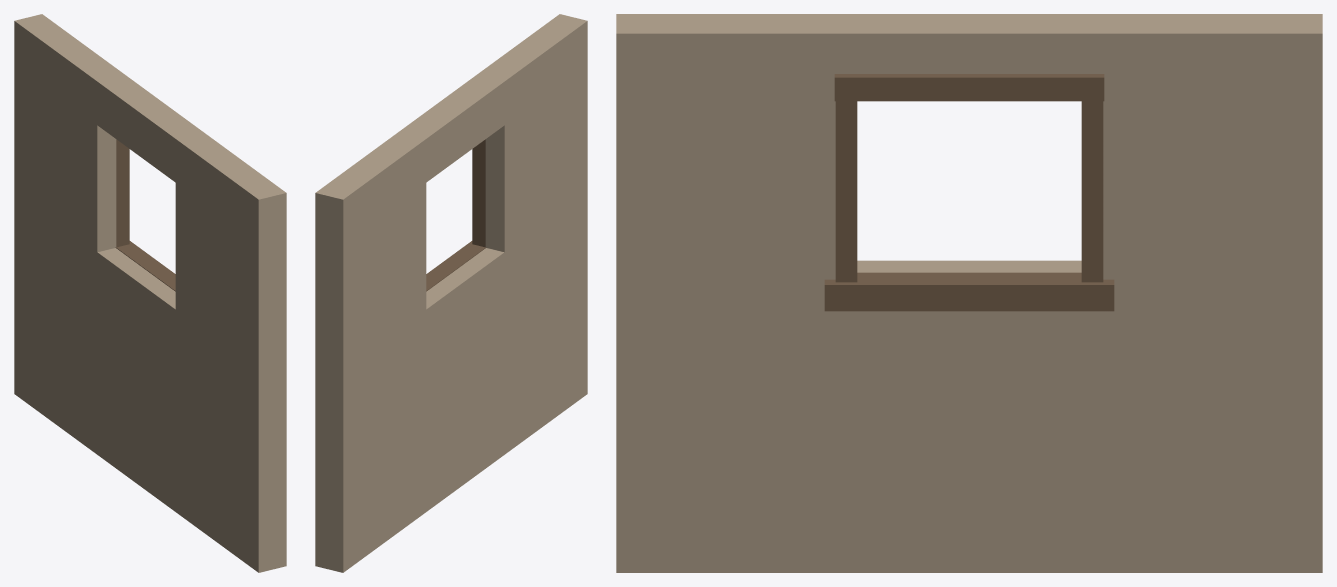
The model's file is mod02_C_window_only.glb.
3 views of the same model, side by side, from view 1: azimuth 30°, elevation 25°; view 2: azimuth 150°, elevation 25°; view 3: azimuth 270°, elevation 25° (orthographic). The views are drawn at different scales.
Visible parts, largest first — view 1: MOD02_StandaloneWindow_Infill, MOD02_StandaloneWindow_right_jamb, MOD02_StandaloneWindow_sill; view 2: MOD02_StandaloneWindow_Infill, MOD02_StandaloneWindow_left_jamb, MOD02_StandaloneWindow_sill; view 3: MOD02_StandaloneWindow_Infill, MOD02_StandaloneWindow_sill, MOD02_StandaloneWindow_head, MOD02_StandaloneWindow_left_jamb, MOD02_StandaloneWindow_right_jamb.
Boxes of the visible parts, <box> form: MOD02_StandaloneWindow_Infill: <box>14,14,286,572</box>; MOD02_StandaloneWindow_right_jamb: <box>116,139,129,247</box>; MOD02_StandaloneWindow_sill: <box>115,241,175,291</box>; MOD02_StandaloneWindow_Infill: <box>315,14,587,572</box>; MOD02_StandaloneWindow_left_jamb: <box>472,139,485,247</box>; MOD02_StandaloneWindow_sill: <box>426,241,486,291</box>; MOD02_StandaloneWindow_Infill: <box>616,14,1322,572</box>; MOD02_StandaloneWindow_sill: <box>824,272,1114,311</box>; MOD02_StandaloneWindow_head: <box>834,74,1104,101</box>; MOD02_StandaloneWindow_left_jamb: <box>835,101,857,282</box>; MOD02_StandaloneWindow_right_jamb: <box>1081,101,1103,282</box>.
Size of the model in its own units: 0.205 by 2.05 by 2.43.
